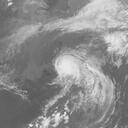cyclone: (53, 50, 89, 87)
